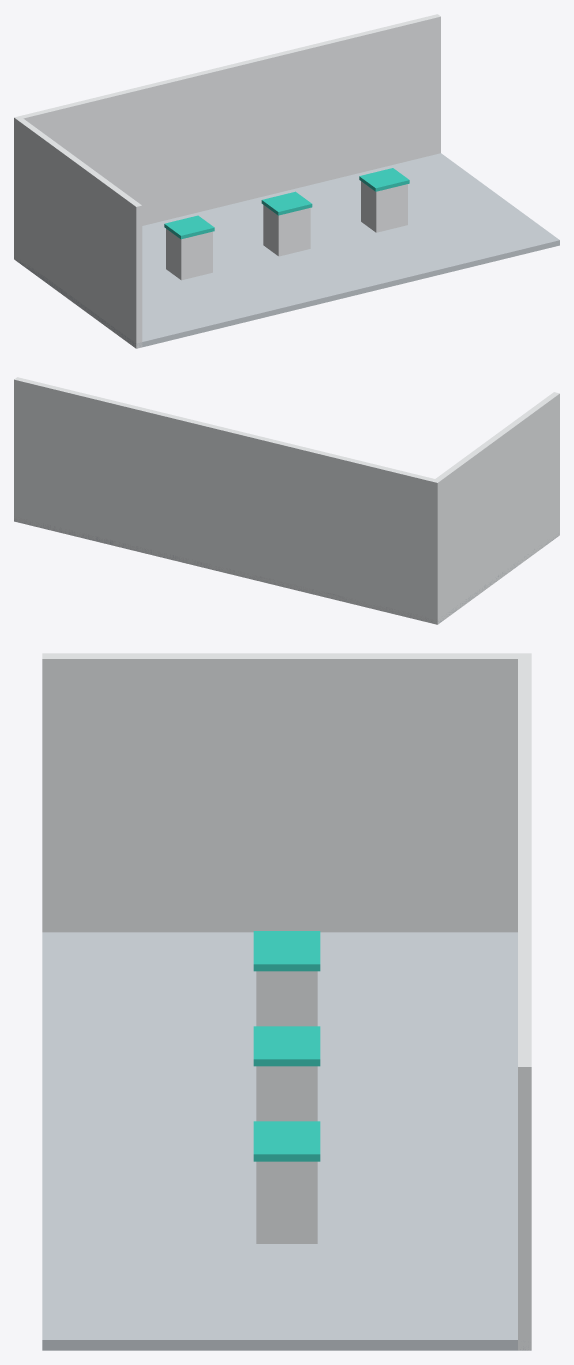
3 renders of one model, top to bottom at view 1: azimuth 30°, elevation 25°; view 2: azimuth 150°, elevation 25°; view 3: azimuth 270°, elevation 25°, orthographic. The views are drawn at different scales.
Parts seen in each view (by area): view 1: Exhibition Booth Concept; view 2: Exhibition Booth Concept; view 3: Exhibition Booth Concept.
Boxes of the visible parts, x1=… form: Exhibition Booth Concept: x1=14, y1=14, x2=559, y2=348; Exhibition Booth Concept: x1=14, y1=377, x2=559, y2=624; Exhibition Booth Concept: x1=42, y1=653, x2=531, y2=1350.
Size of the model in its own units: 10 by 3.2 by 5.
